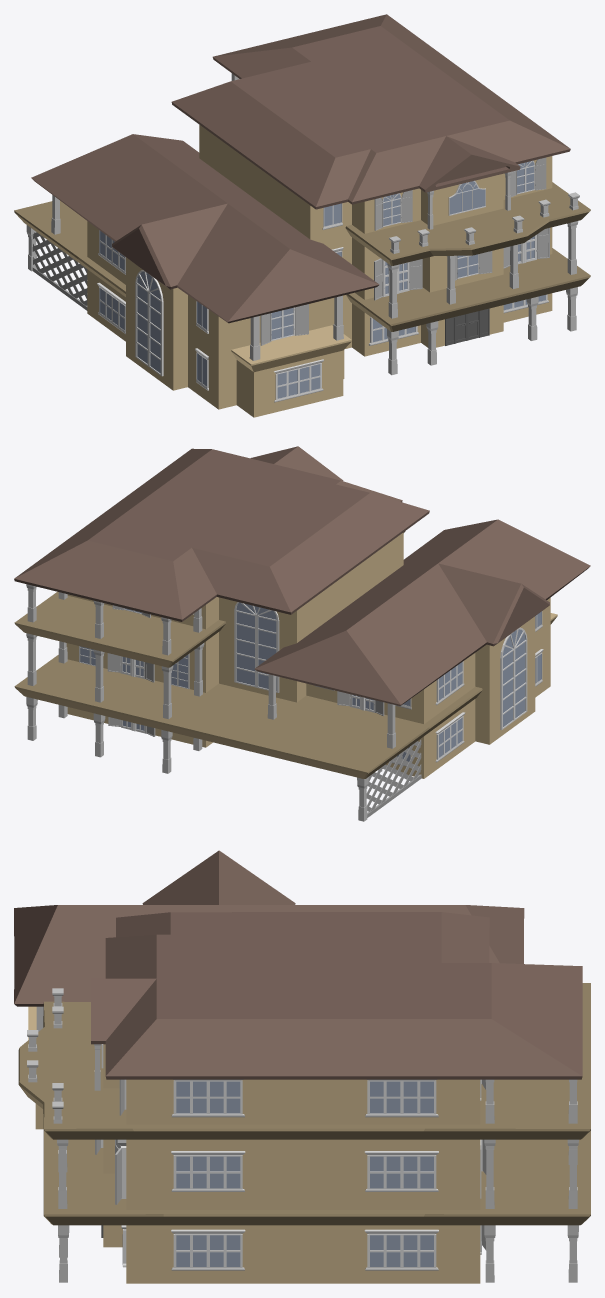
File: armaniNoGarage_new_cut.fbx
The picture shows the model from 3 angles, top to bottom: view 1: azimuth 30°, elevation 25°; view 2: azimuth 150°, elevation 25°; view 3: azimuth 270°, elevation 25°; orthographic projection. The views are drawn at different scales.
Parts seen in each view (by area): view 1: roof, walls, balcony, glass1, pillars1, window_exteriors, window_covers, lattice, front_door1; view 2: roof, balcony, walls, glass1, pillars1, window_exteriors, lattice, window_covers; view 3: roof, walls, balcony, glass1, window_exteriors, pillars1, window_covers.
Boxes of the visible parts, x1=… form: roof: x1=31, y1=14, x2=570, y2=323; walls: x1=87, y1=125, x2=552, y2=417; balcony: x1=14, y1=182, x2=590, y2=331; glass1: x1=100, y1=161, x2=545, y2=398; pillars1: x1=26, y1=73, x2=579, y2=375; window_exteriors: x1=97, y1=160, x2=548, y2=402; window_covers: x1=260, y1=157, x2=549, y2=345; lattice: x1=32, y1=231, x2=87, y2=310; front_door1: x1=445, y1=308, x2=489, y2=345; roof: x1=14, y1=446, x2=590, y2=705; balcony: x1=14, y1=531, x2=482, y2=778; walls: x1=66, y1=532, x2=557, y2=778; glass1: x1=80, y1=602, x2=541, y2=761; pillars1: x1=26, y1=584, x2=395, y2=821; window_exteriors: x1=79, y1=602, x2=543, y2=766; lattice: x1=366, y1=740, x2=421, y2=817; window_covers: x1=107, y1=605, x2=384, y2=771; roof: x1=14, y1=850, x2=582, y2=1079; walls: x1=28, y1=1006, x2=480, y2=1283; balcony: x1=18, y1=983, x2=590, y2=1225; glass1: x1=176, y1=1081, x2=433, y2=1266; window_exteriors: x1=101, y1=1044, x2=482, y2=1270; pillars1: x1=27, y1=988, x2=578, y2=1282; window_covers: x1=95, y1=1079, x2=486, y2=1250.
Size of the model in its own units: 28.36 by 13.22 by 28.17.
